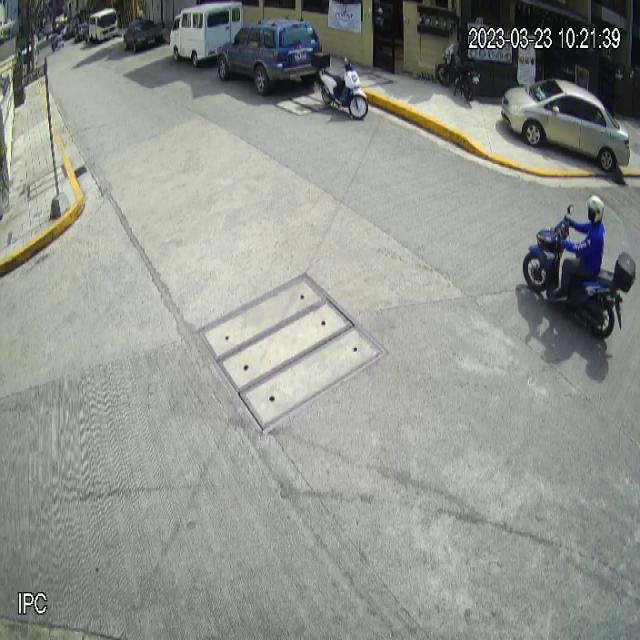Car: (501, 78, 632, 173), (217, 17, 323, 89)
Motorcycle: (522, 204, 636, 339), (310, 48, 368, 122)
Van: (170, 1, 242, 67)
